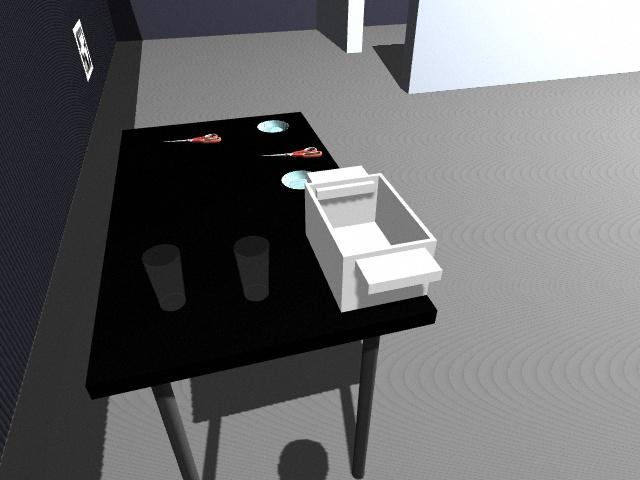cup: (141, 244, 186, 310), (233, 236, 271, 302)
plate: (280, 169, 312, 191), (256, 119, 292, 134)
scissors: (262, 146, 322, 158), (163, 133, 223, 145)
